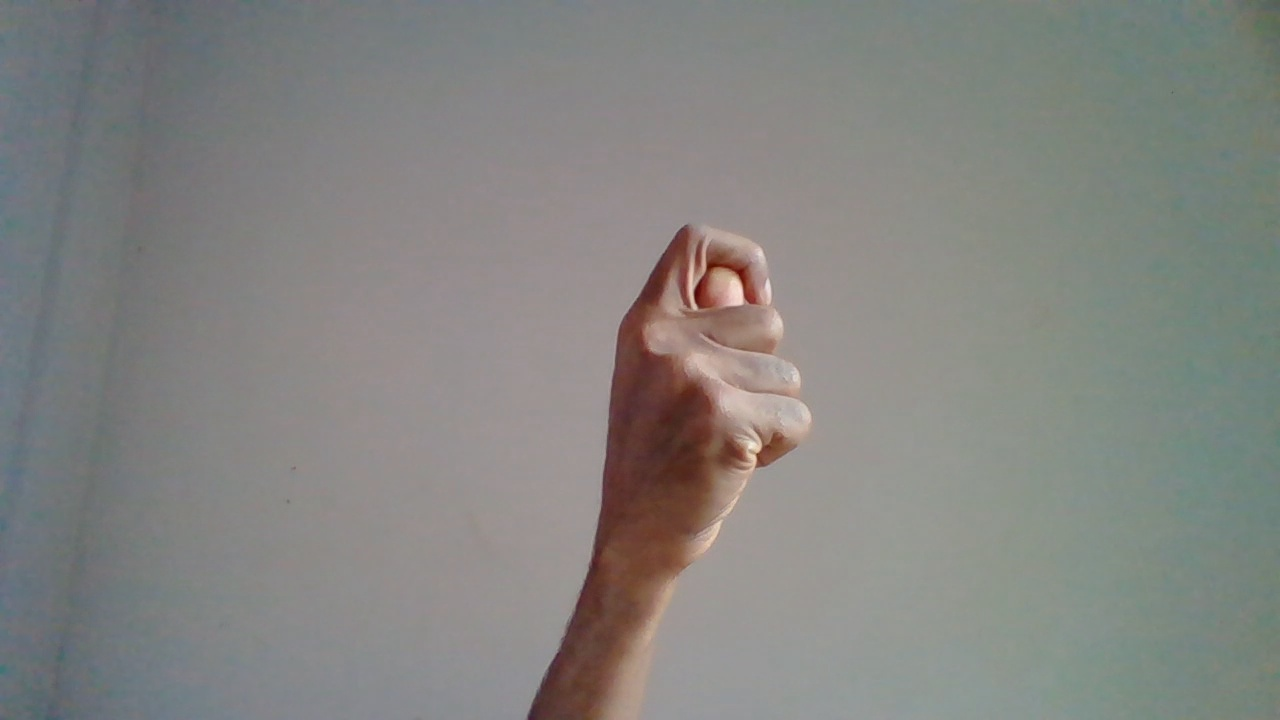che: (599, 222, 827, 686)
